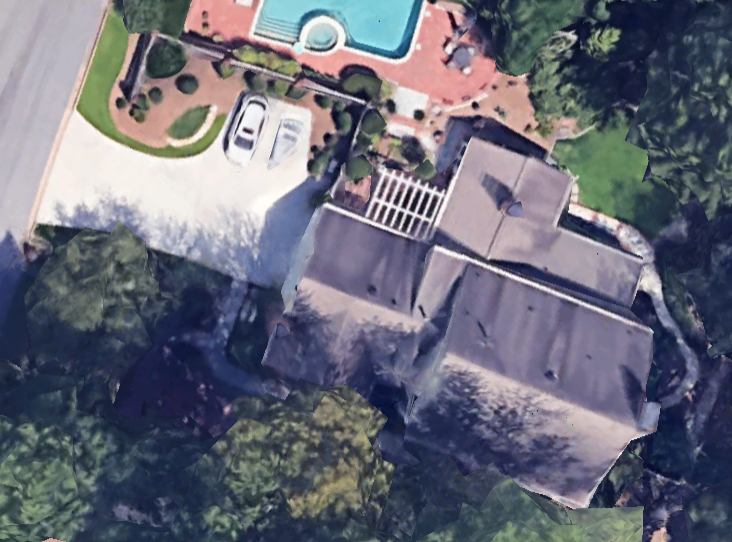driveway: (33, 62, 335, 289)
